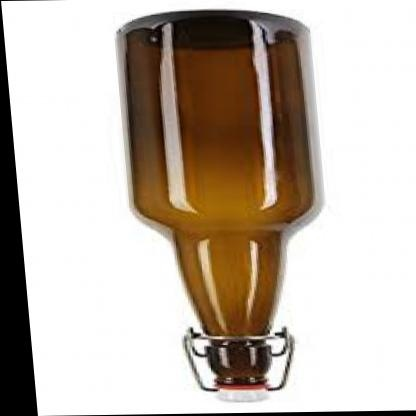trash: (119, 11, 319, 399)
